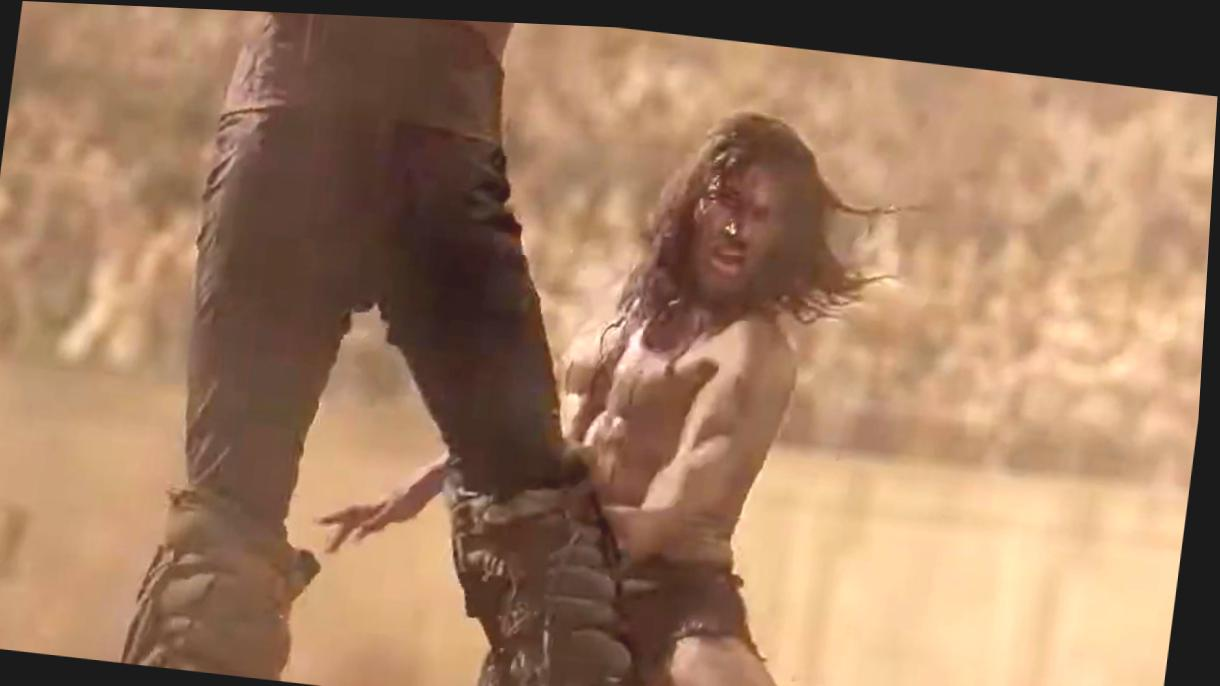Fire: (693, 155, 789, 307)
